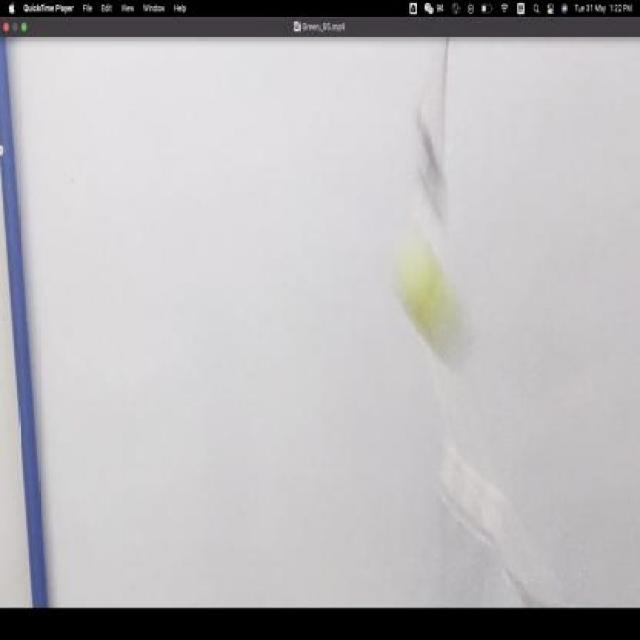baseball: (390, 230, 472, 364)
